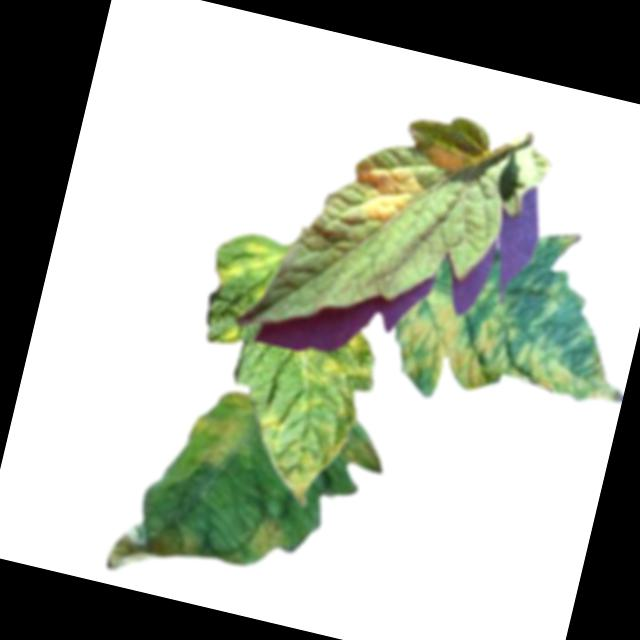Leaf_Mold: (386, 283, 637, 439), (243, 371, 362, 510), (102, 506, 202, 590), (289, 319, 386, 400), (181, 382, 262, 473), (347, 155, 427, 234), (211, 231, 287, 303), (243, 510, 296, 566), (339, 430, 389, 475), (420, 139, 468, 177), (215, 322, 243, 350)
